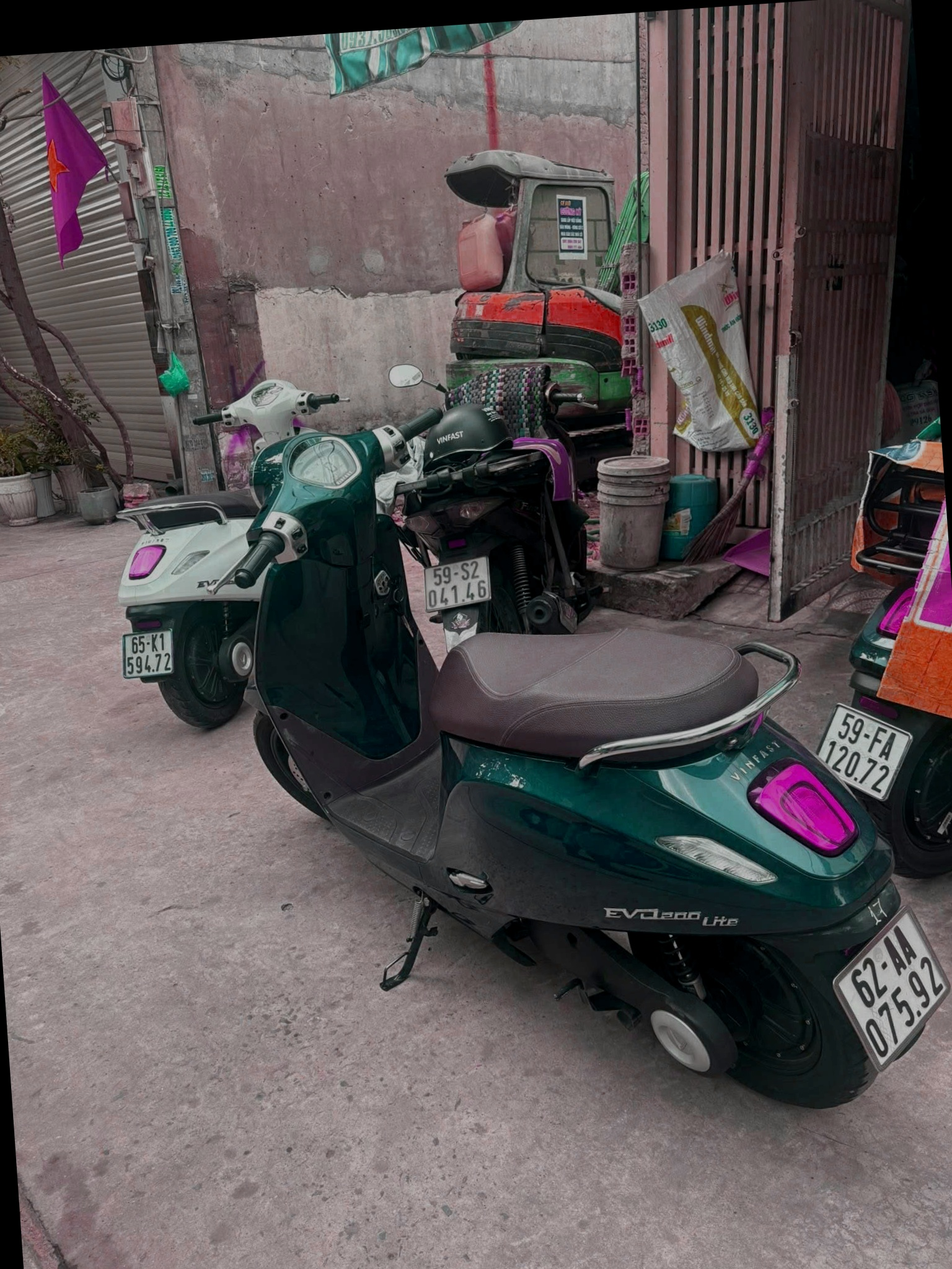Bien-so: (824, 926, 950, 1098), (840, 717, 938, 833), (458, 531, 533, 588), (147, 563, 198, 617)
